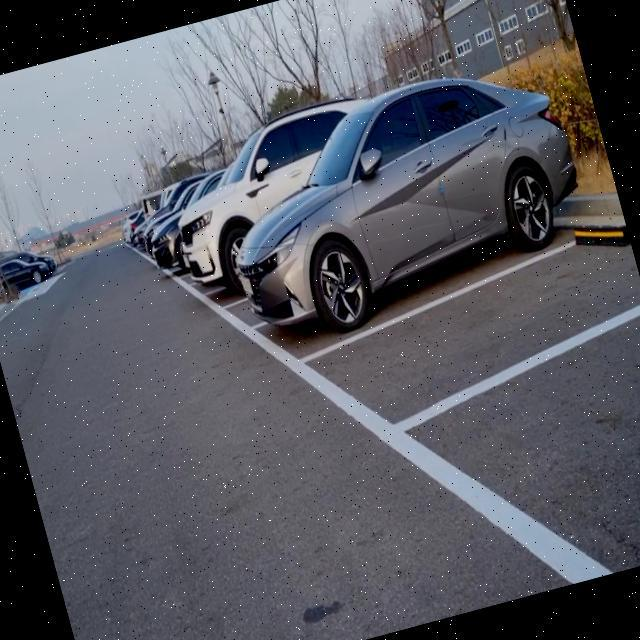Car: (195, 71, 560, 385), (167, 184, 253, 318)
Vacant: (274, 212, 640, 469)
